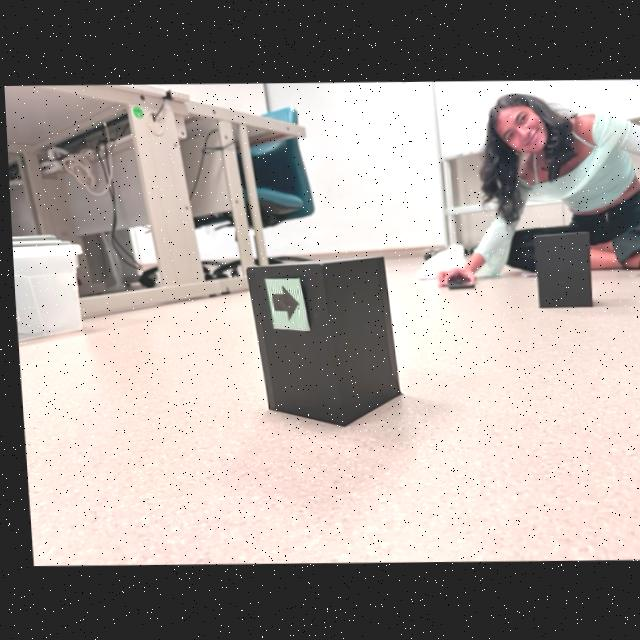RIGHT: (269, 286, 295, 320)
